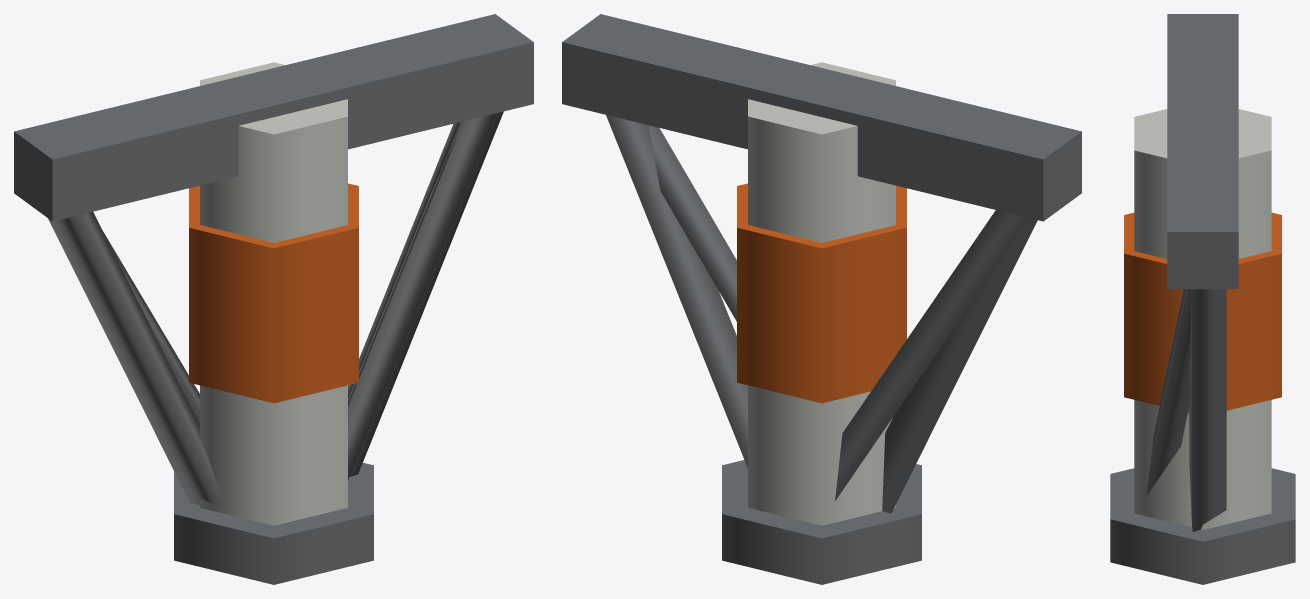
The model's file is po4_leg.obj.
3 views of the same model, side by side, from view 1: azimuth 30°, elevation 25°; view 2: azimuth 150°, elevation 25°; view 3: azimuth 270°, elevation 25° (orthographic). The views are drawn at different scales.
Parts seen in each view (by area): view 1: po4_leg; view 2: po4_leg; view 3: po4_leg.
Part boxes in pixels (x1,y1,x2,y2): po4_leg: (14,14,533,584); po4_leg: (562,14,1081,584); po4_leg: (1110,14,1295,584).
Size of the model in its own units: 1.3 by 1.16 by 0.4677.
